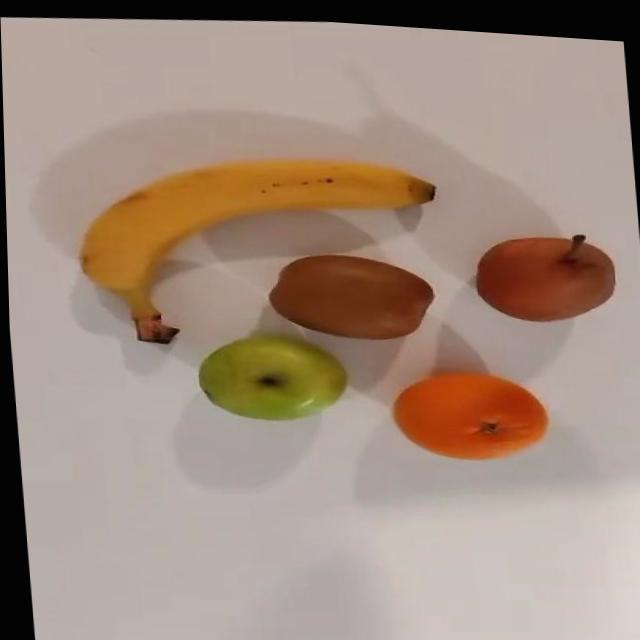Apple: (192, 321, 347, 425), (470, 217, 617, 322)
Banana: (68, 133, 448, 360)
Orange: (386, 356, 550, 461)
